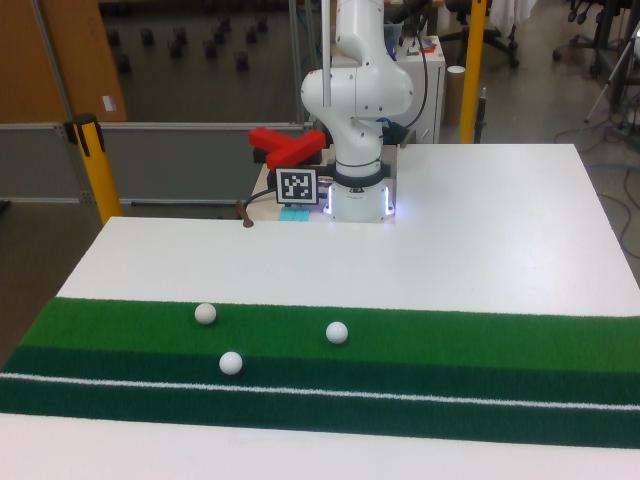golf_balls: (219, 352, 242, 374), (326, 322, 348, 344), (195, 303, 216, 324)
